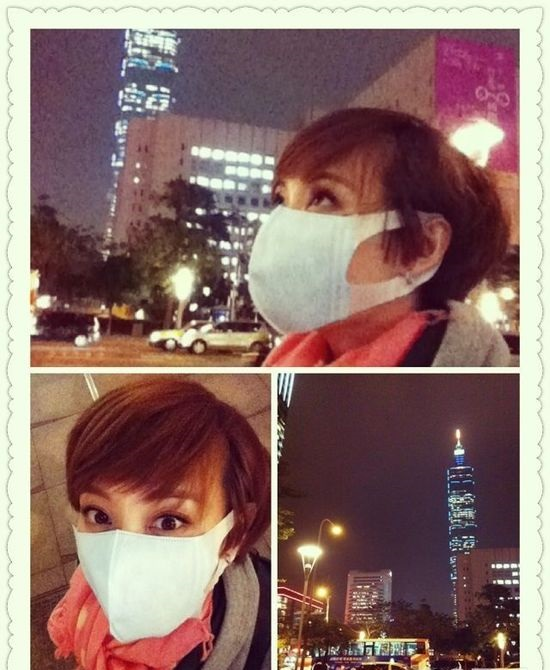face_mask: (75, 427, 226, 639), (259, 138, 379, 332)
